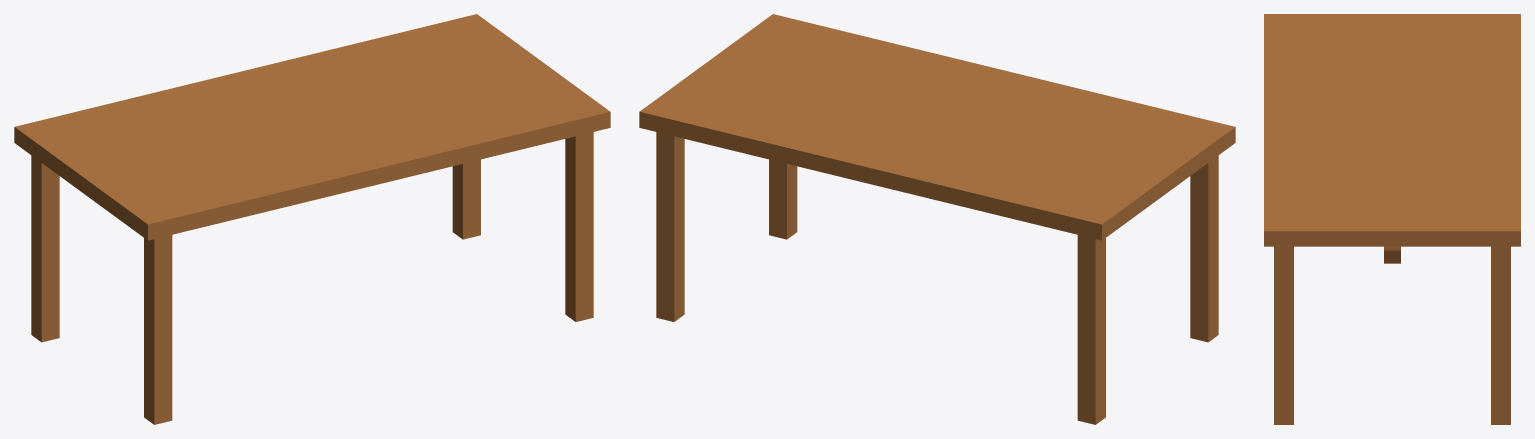
File: patio_dining_table_6.glb
The picture shows the model from 3 angles, left to right: view 1: azimuth 30°, elevation 25°; view 2: azimuth 150°, elevation 25°; view 3: azimuth 270°, elevation 25°; orthographic projection. The views are drawn at different scales.
Parts seen in each view (by area): view 1: dining_table_6; view 2: dining_table_6; view 3: dining_table_6.
Part boxes in pixels (x1,y1,x2,y2): dining_table_6: [14, 14, 610, 424]; dining_table_6: [639, 14, 1235, 424]; dining_table_6: [1264, 14, 1520, 424].
Size of the model in its own units: 1.8 by 0.77 by 0.9.
